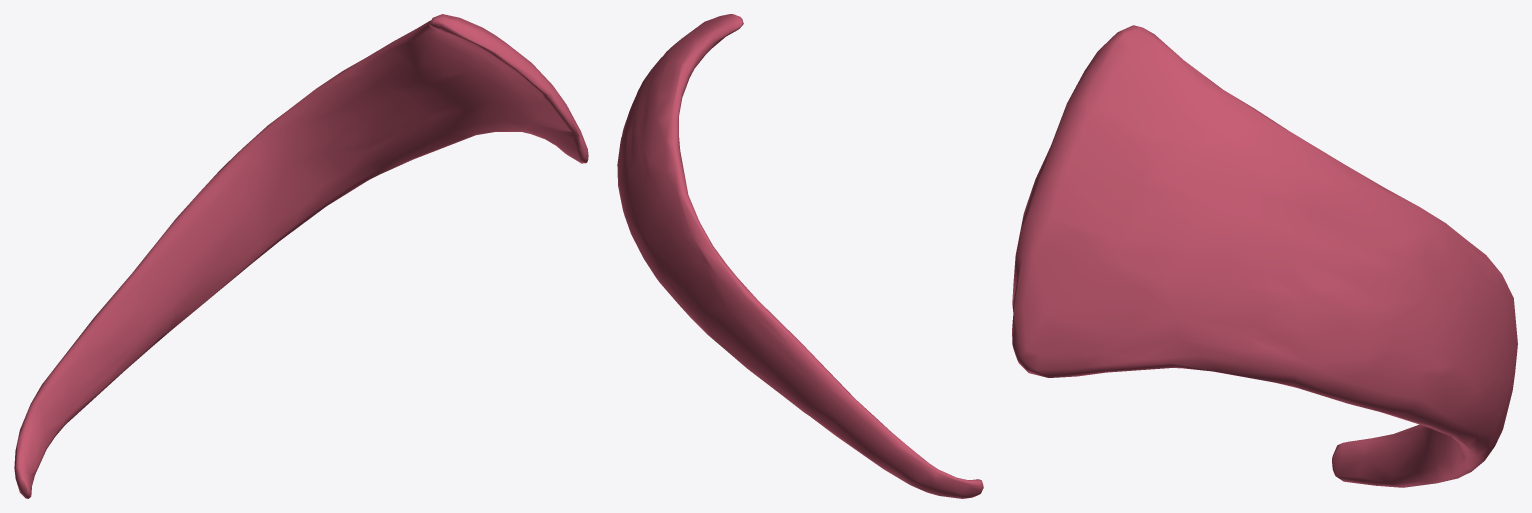
3 views of the same model, side by side, from view 1: azimuth 30°, elevation 25°; view 2: azimuth 150°, elevation 25°; view 3: azimuth 270°, elevation 25° (orthographic). The views are drawn at different scales.
Parts seen in each view (by area): view 1: 左侧下斜肌; view 2: 左侧下斜肌; view 3: 左侧下斜肌.
Boxes of the visible parts, bbox=[...] form: 左侧下斜肌: bbox=[14, 14, 588, 498]; 左侧下斜肌: bbox=[617, 14, 983, 498]; 左侧下斜肌: bbox=[1012, 25, 1517, 487].
Size of the model in its own units: 0.0433 by 0.0384 by 0.0238.
